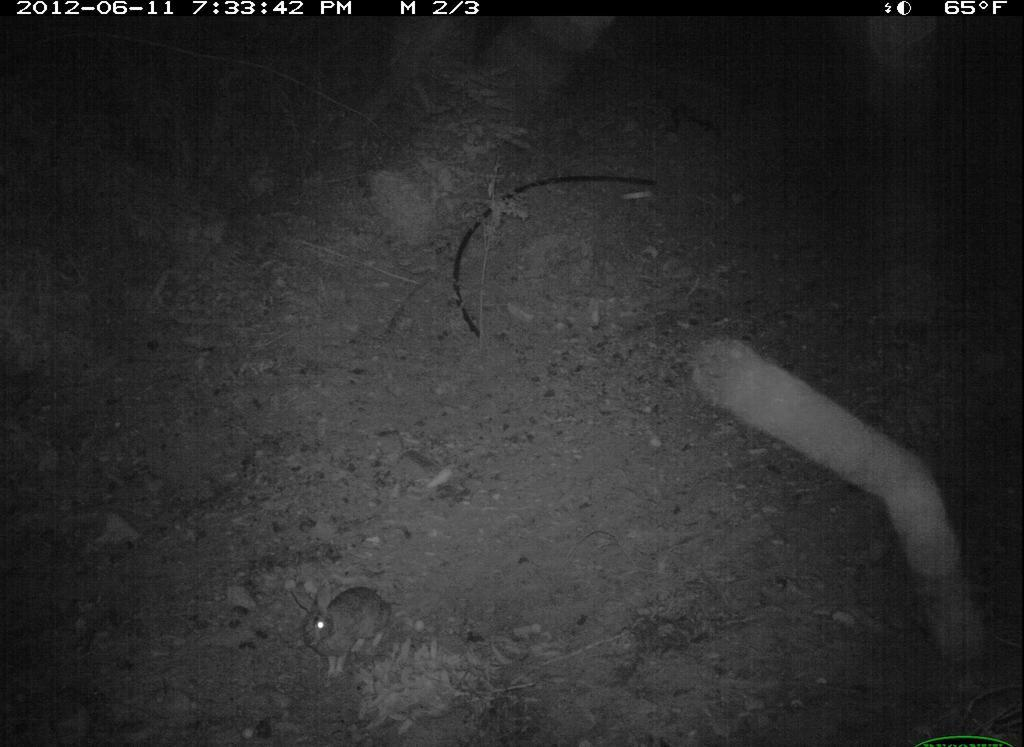rabbit: (285, 575, 399, 680)
